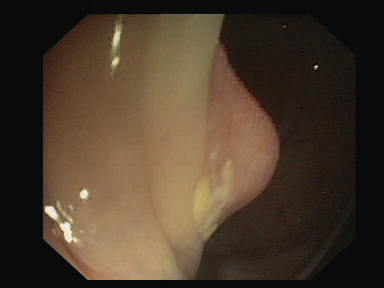polyp: (179, 43, 306, 210)
